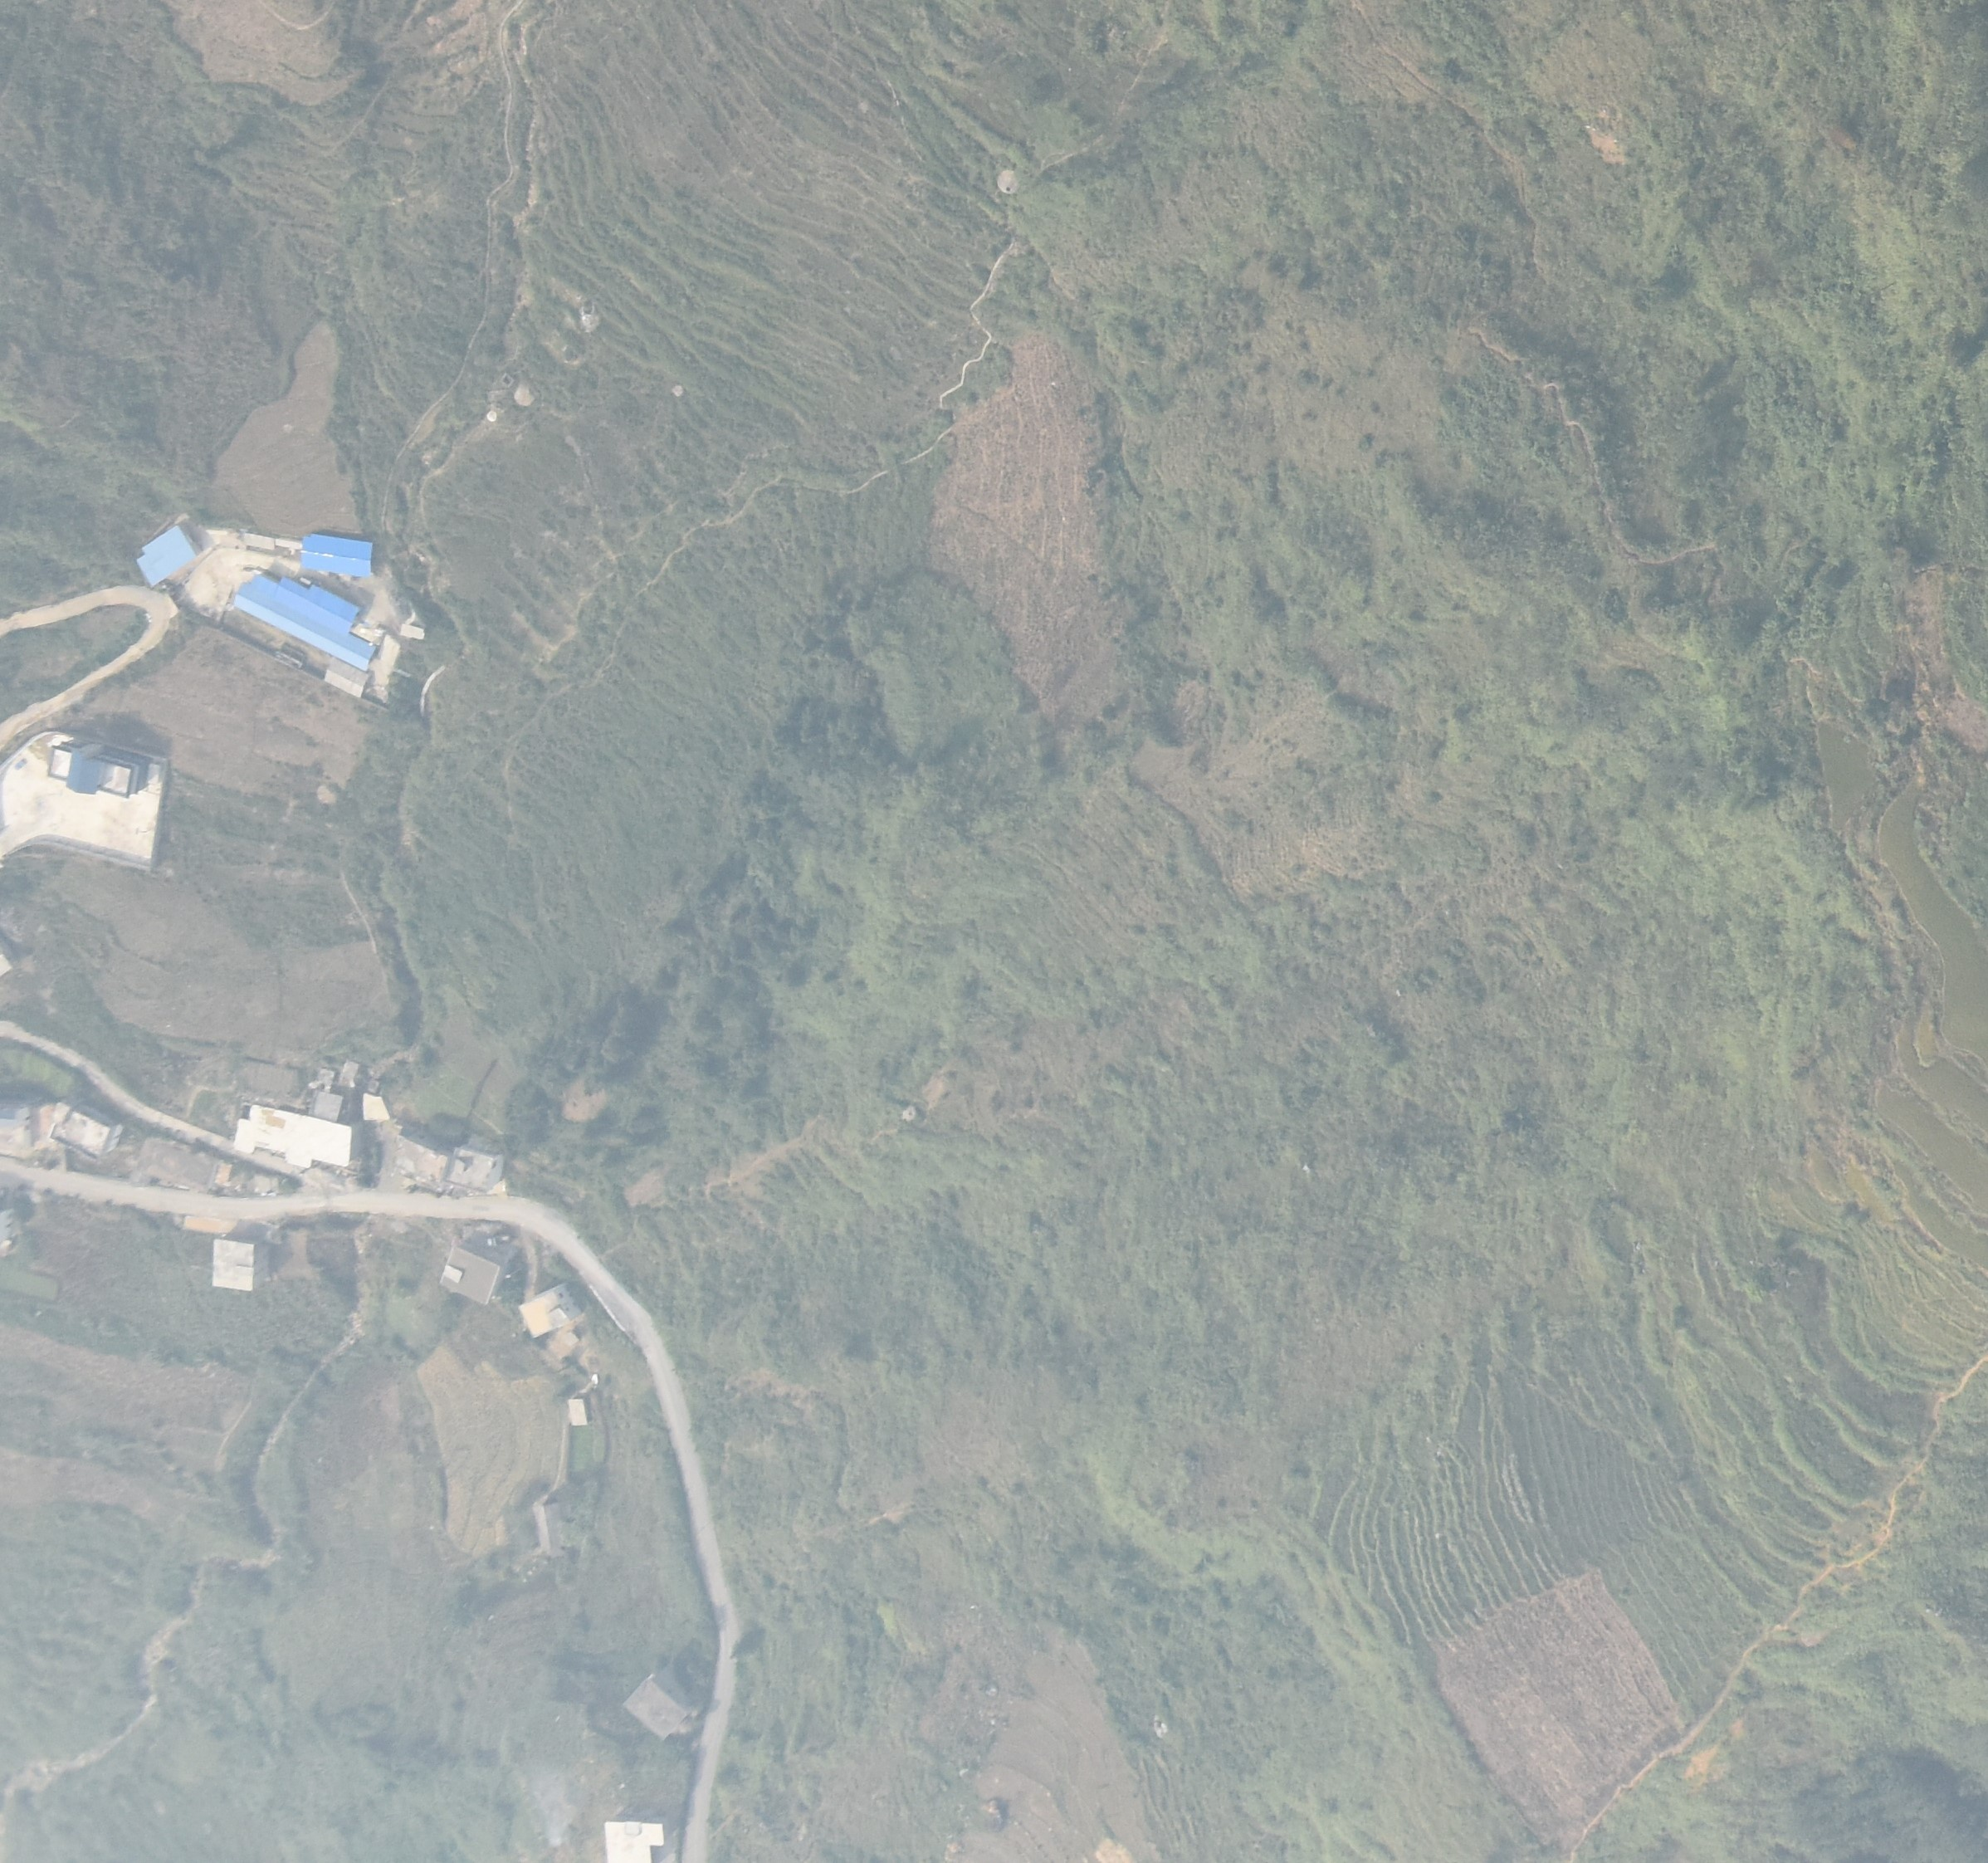building: (235, 1100, 352, 1170), (49, 737, 154, 795), (621, 1672, 698, 1740), (441, 1243, 507, 1306), (49, 1108, 124, 1156), (215, 1238, 268, 1292), (523, 1283, 577, 1334), (445, 1149, 507, 1185), (532, 1502, 570, 1558), (362, 1093, 392, 1126), (308, 1094, 341, 1122)
prefabricated-house: (233, 574, 376, 672), (135, 525, 198, 588), (299, 534, 373, 578)
vehicle: (14, 758, 28, 770)
